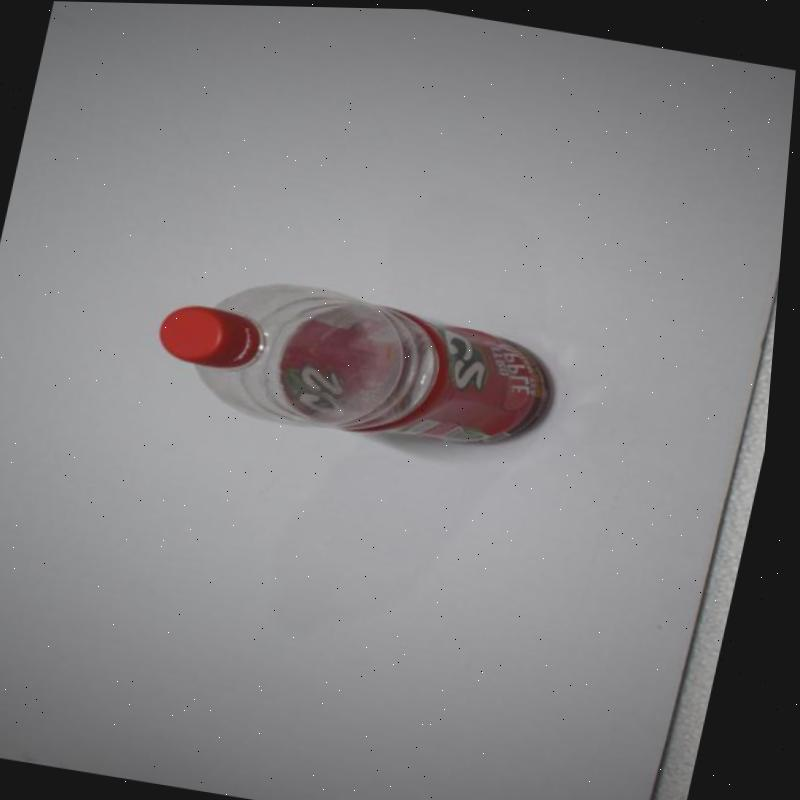botella: (143, 260, 578, 463)
